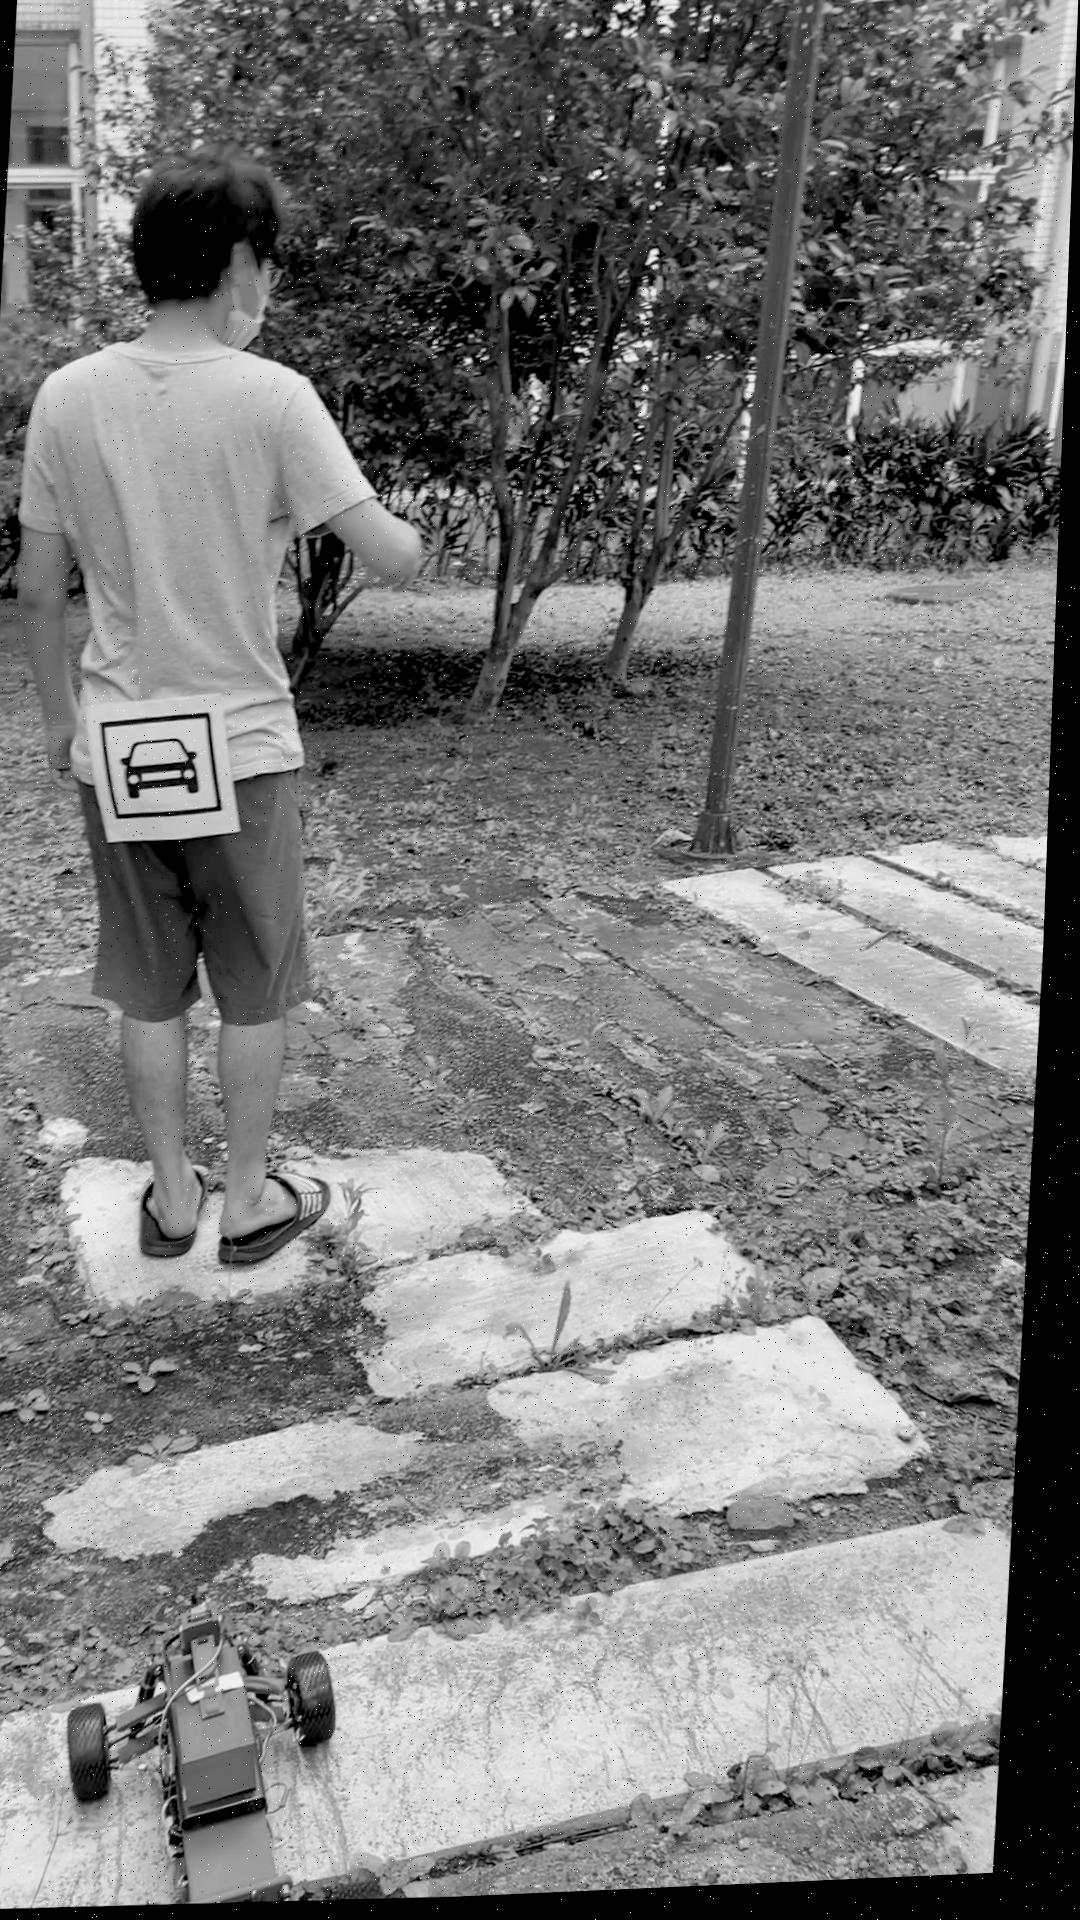car_img: (100, 711, 233, 824)
